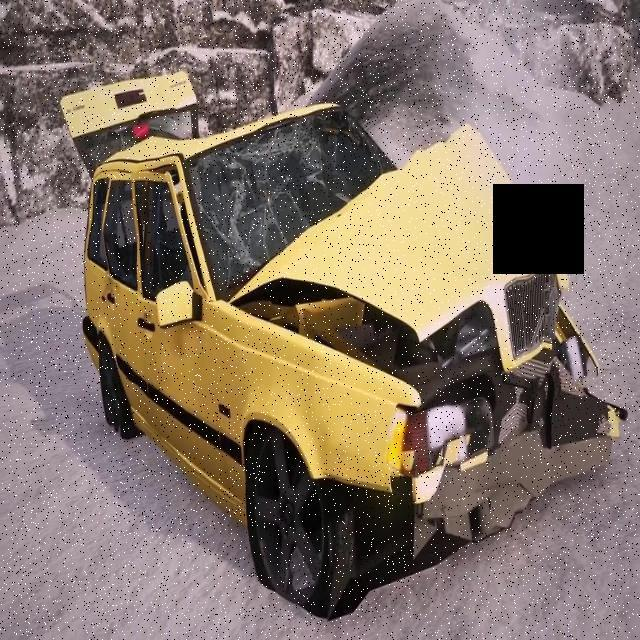vehicle: (18, 57, 630, 614)
